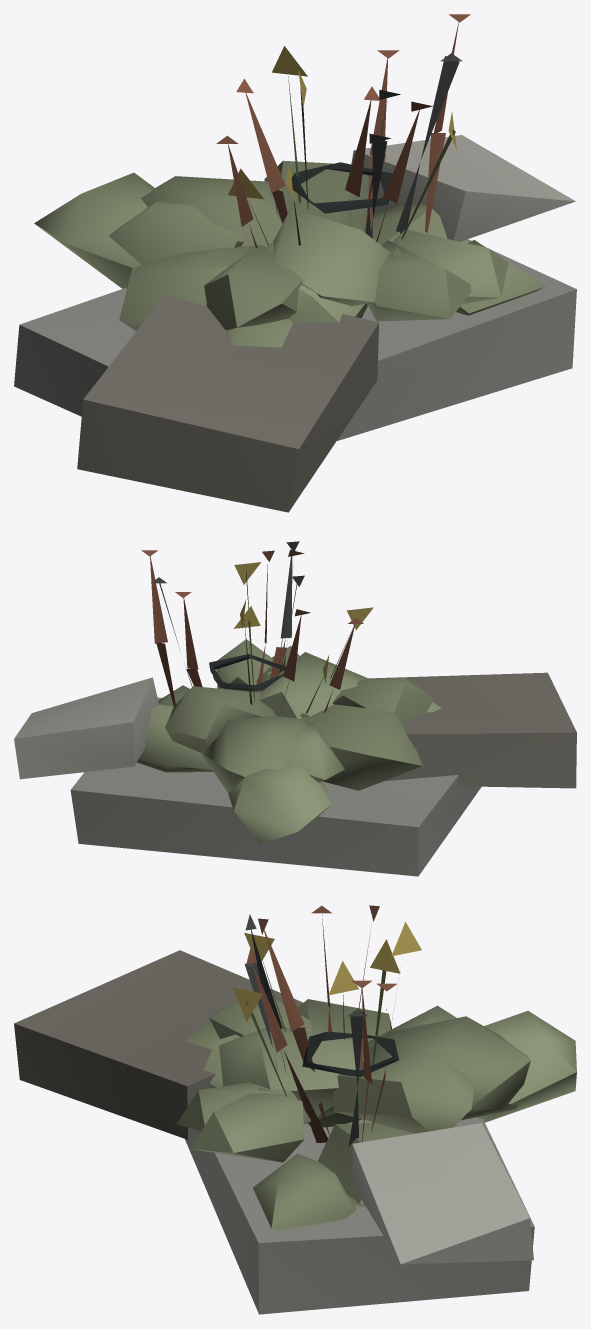
The model's file is rebar_bloom_a_lod2.glb.
The picture shows the model from 3 angles, top to bottom: view 1: azimuth 30°, elevation 25°; view 2: azimuth 150°, elevation 25°; view 3: azimuth 270°, elevation 25°; orthographic projection. The views are drawn at different scales.
Parts seen in each view (by area): view 1: Surface.001; view 2: Surface.001; view 3: Surface.001.
Boxes of the visible parts, <box> form: Surface.001: <box>14,14,576,512</box>; Surface.001: <box>14,541,576,876</box>; Surface.001: <box>14,905,576,1314</box>.
Size of the model in its own units: 4.17 by 2.15 by 3.54.
